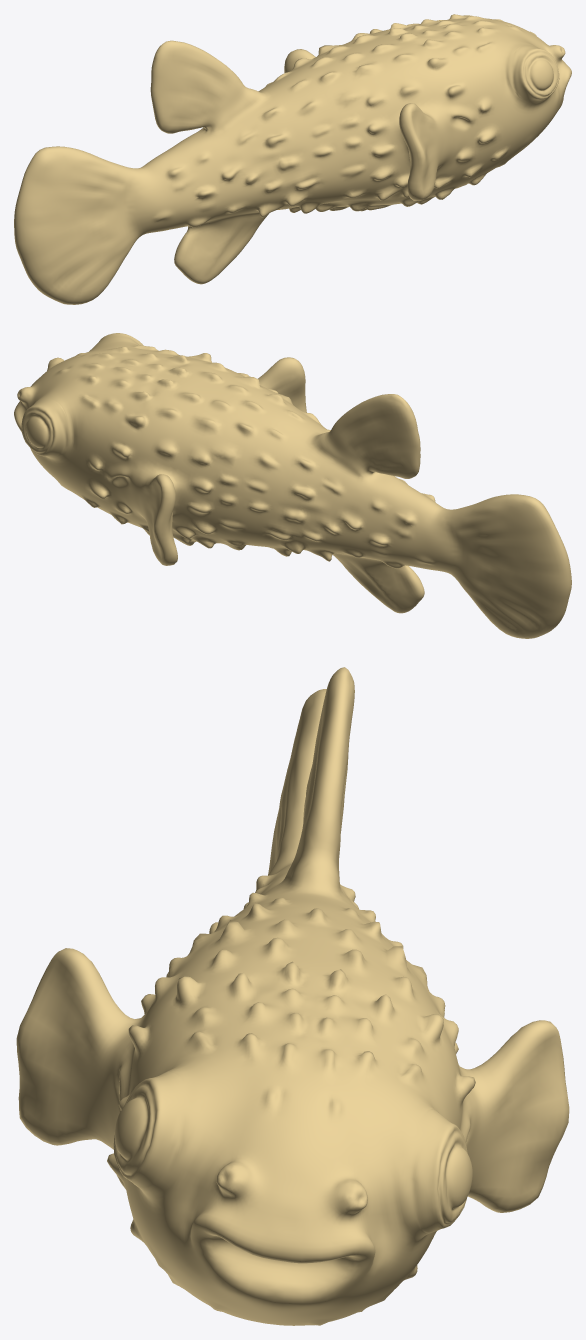
File: puffer.glb
3 views of the same model, one above another, from view 1: azimuth 30°, elevation 25°; view 2: azimuth 150°, elevation 25°; view 3: azimuth 270°, elevation 25° (orthographic). The views are drawn at different scales.
Visible parts, largest first — view 1: 19421_Puffer_fish_v1; view 2: 19421_Puffer_fish_v1; view 3: 19421_Puffer_fish_v1.
Part boxes in pixels (left/top/right/bottom): 19421_Puffer_fish_v1: left=14, top=14, right=571, bottom=304; 19421_Puffer_fish_v1: left=14, top=333, right=571, bottom=638; 19421_Puffer_fish_v1: left=16, top=667, right=569, bottom=1325.
Size of the model in its own units: 5.08 by 2.08 by 2.25.
